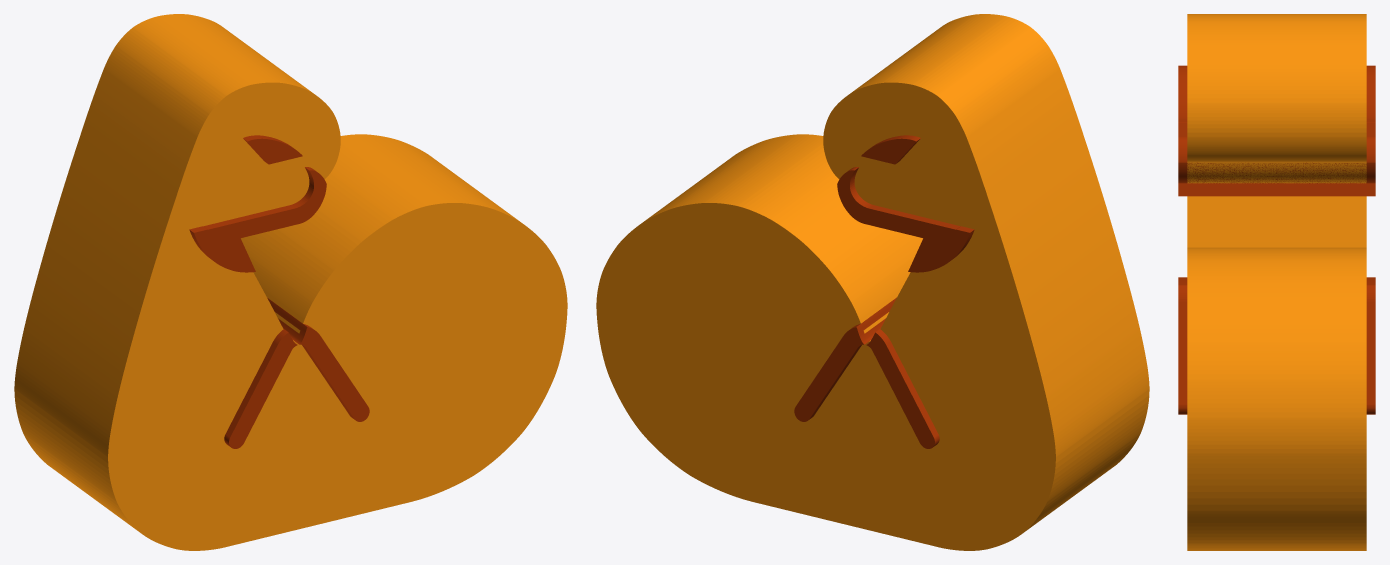
3 renders of one model, left to right at view 1: azimuth 30°, elevation 25°; view 2: azimuth 150°, elevation 25°; view 3: azimuth 270°, elevation 25°, orthographic. The views are drawn at different scales.
Visible parts, largest first — view 1: U+1F4AA_layer00_obj00, U+1F4AA_layer01_obj00; view 2: U+1F4AA_layer00_obj00, U+1F4AA_layer01_obj00; view 3: U+1F4AA_layer00_obj00, U+1F4AA_layer01_obj00.
Part boxes in pixels (x1=…): U+1F4AA_layer00_obj00: x1=14, y1=14, x2=567, y2=550; U+1F4AA_layer01_obj00: x1=189, y1=135, x2=369, y2=448; U+1F4AA_layer00_obj00: x1=596, y1=14, x2=1149, y2=550; U+1F4AA_layer01_obj00: x1=794, y1=135, x2=974, y2=448; U+1F4AA_layer00_obj00: x1=1187, y1=14, x2=1366, y2=550; U+1F4AA_layer01_obj00: x1=1178, y1=65, x2=1375, y2=414.
Bounding box in the file's own units: 0.5667 × 0.5375 × 0.22.
